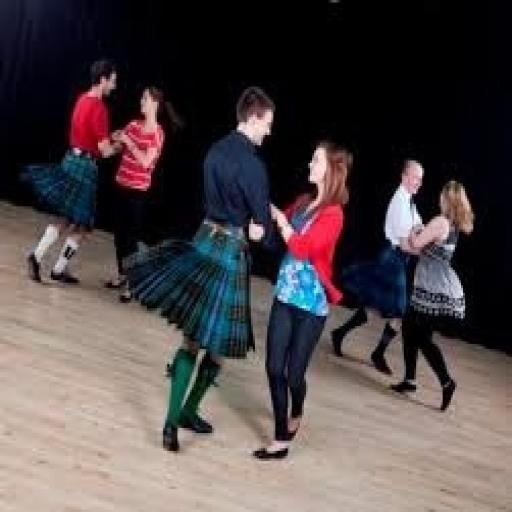dancing: (122, 81, 282, 456), (20, 54, 126, 290)
